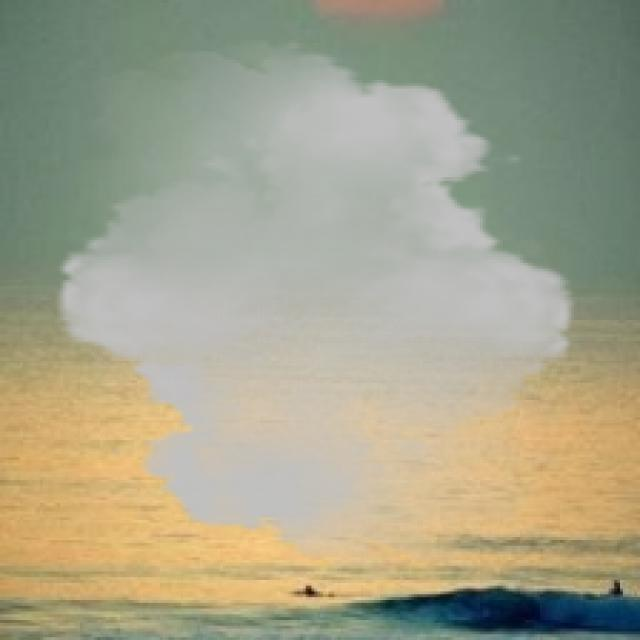smoke: (34, 40, 597, 571)
